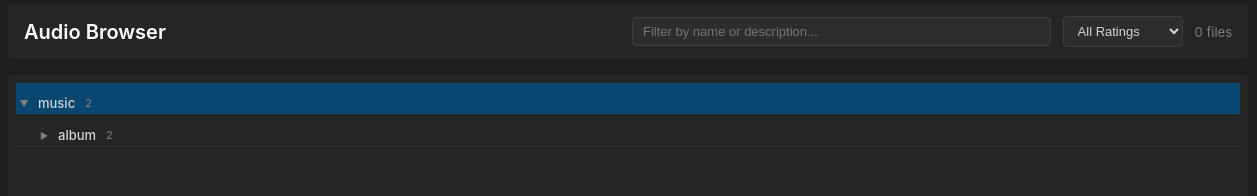
AudioBrowser › filters with consecutive letters and expands root directory
Expected: the text "music" is shown, top-left (38, 96), bottom-right (75, 110)
Filter with consecutive letters that match part of a filename
Type "as" into the field with placeholder "Filter by name or description...". click: (841, 32)
box: top-left (632, 17), bottom-right (1051, 46)
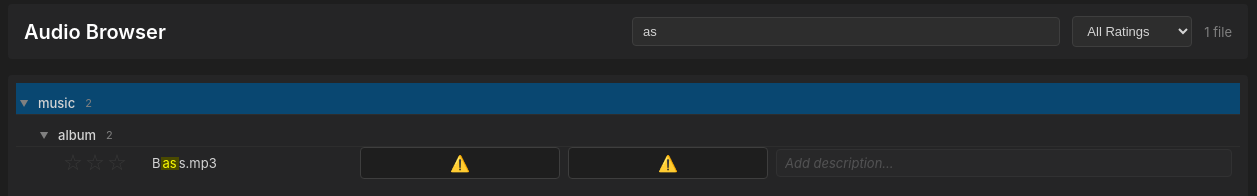
Expected: the text "album" is shown, top-left (58, 126), bottom-right (96, 142)
Result: the text "1 file" is shown at top-left (1204, 24), bottom-right (1232, 40)
